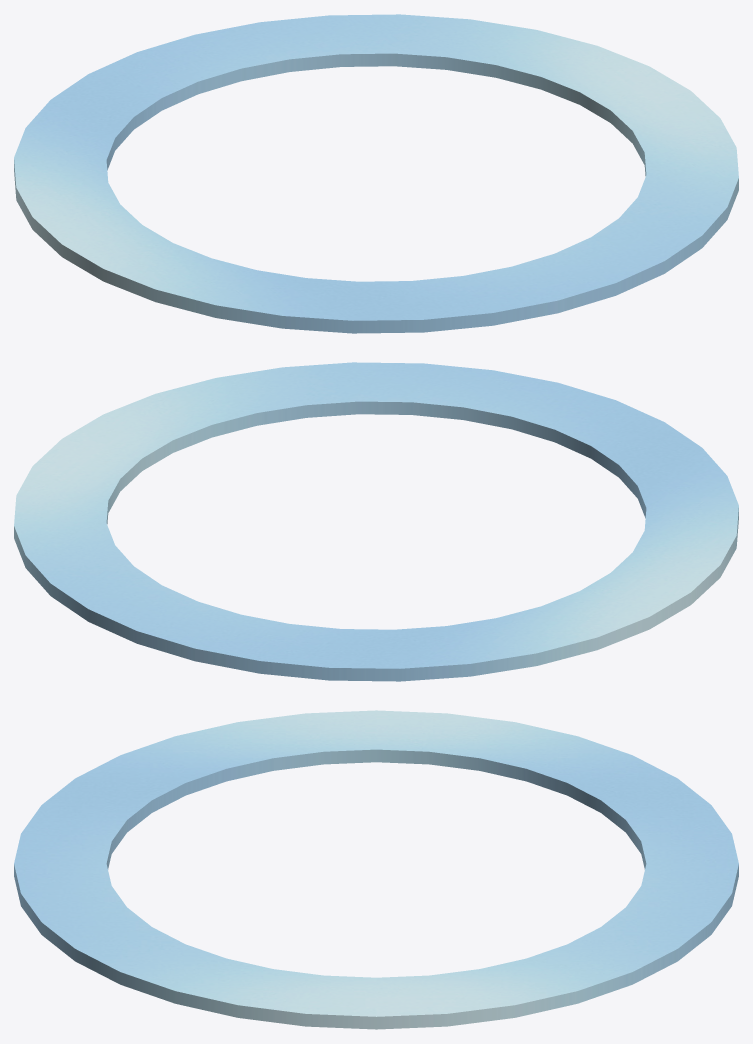
The model's file is CircleHole.gltf.
3 views of the same model, one above another, from view 1: azimuth 30°, elevation 25°; view 2: azimuth 150°, elevation 25°; view 3: azimuth 270°, elevation 25° (orthographic).
Parts seen in each view (by area): view 1: win005; view 2: win005; view 3: win005.
Part boxes in pixels (bbox=[...]): win005: bbox=[14, 14, 738, 333]; win005: bbox=[14, 362, 738, 681]; win005: bbox=[14, 710, 738, 1029].
Bounding box in the file's own units: 50 × 0.9656 × 50.
1 material, 1 textured.
